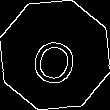O_N: (27, 24, 83, 86)
